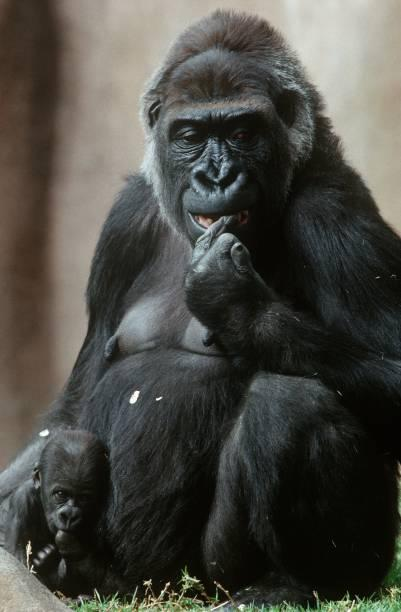gorille_Autres: (22, 12, 401, 598)
